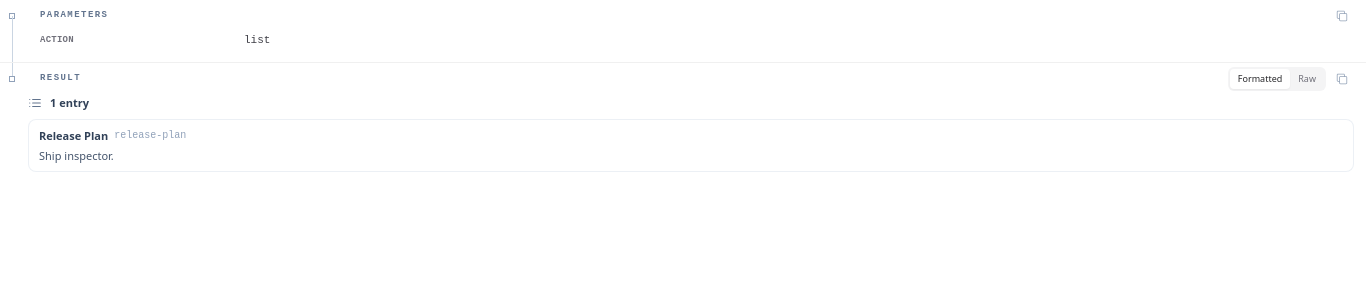
it: ToolCallInspectorDetails result renderers › renders the list specialized summary
The width and height of the screenshot is (1366, 296).
Step 1. Click the button "Raw" → (1307, 79), box [1290,69,1324,89]
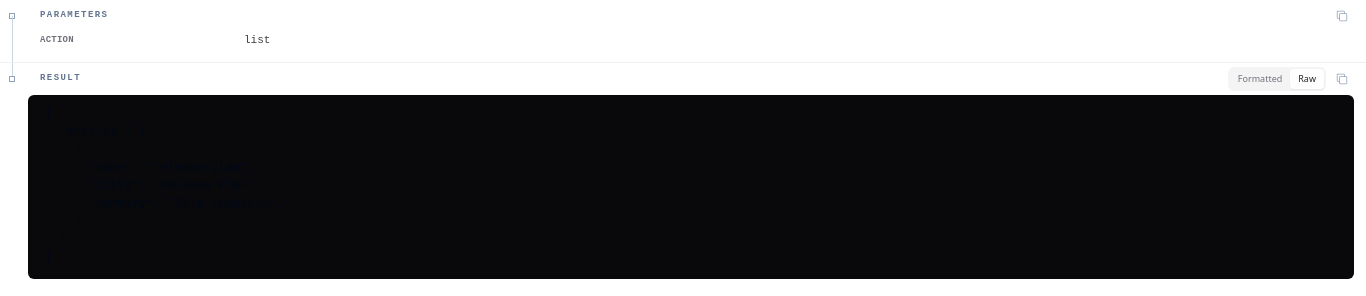
Result: the element with test id "wiki-tool-summary" is gone
